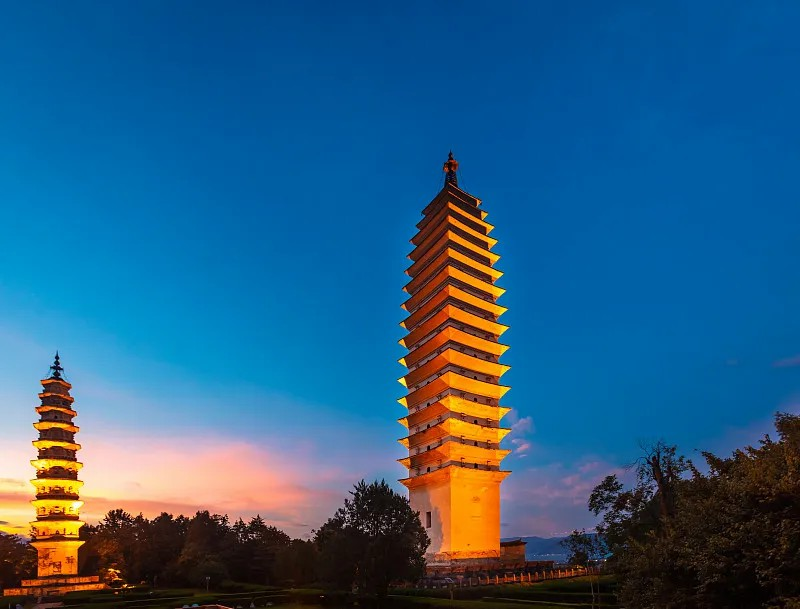ThreePagoda: (396, 150, 512, 561)
